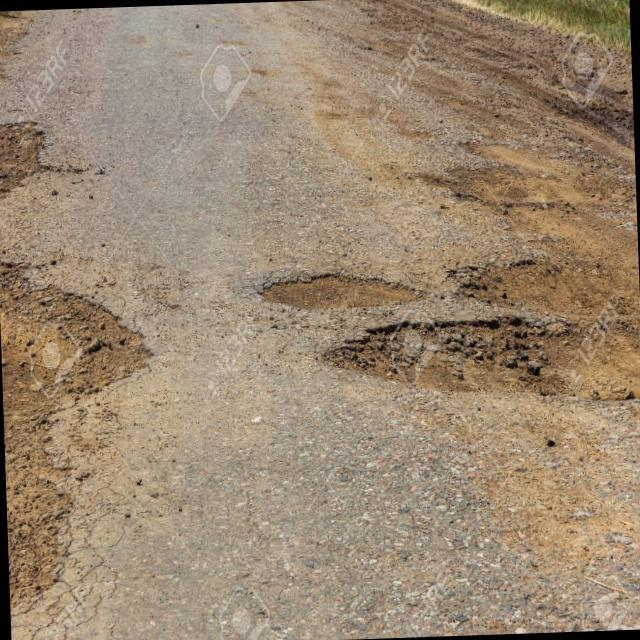Pothole: (0, 280, 150, 590), (342, 323, 586, 420), (453, 240, 615, 314), (440, 158, 570, 233), (258, 258, 434, 310), (0, 109, 51, 205)
